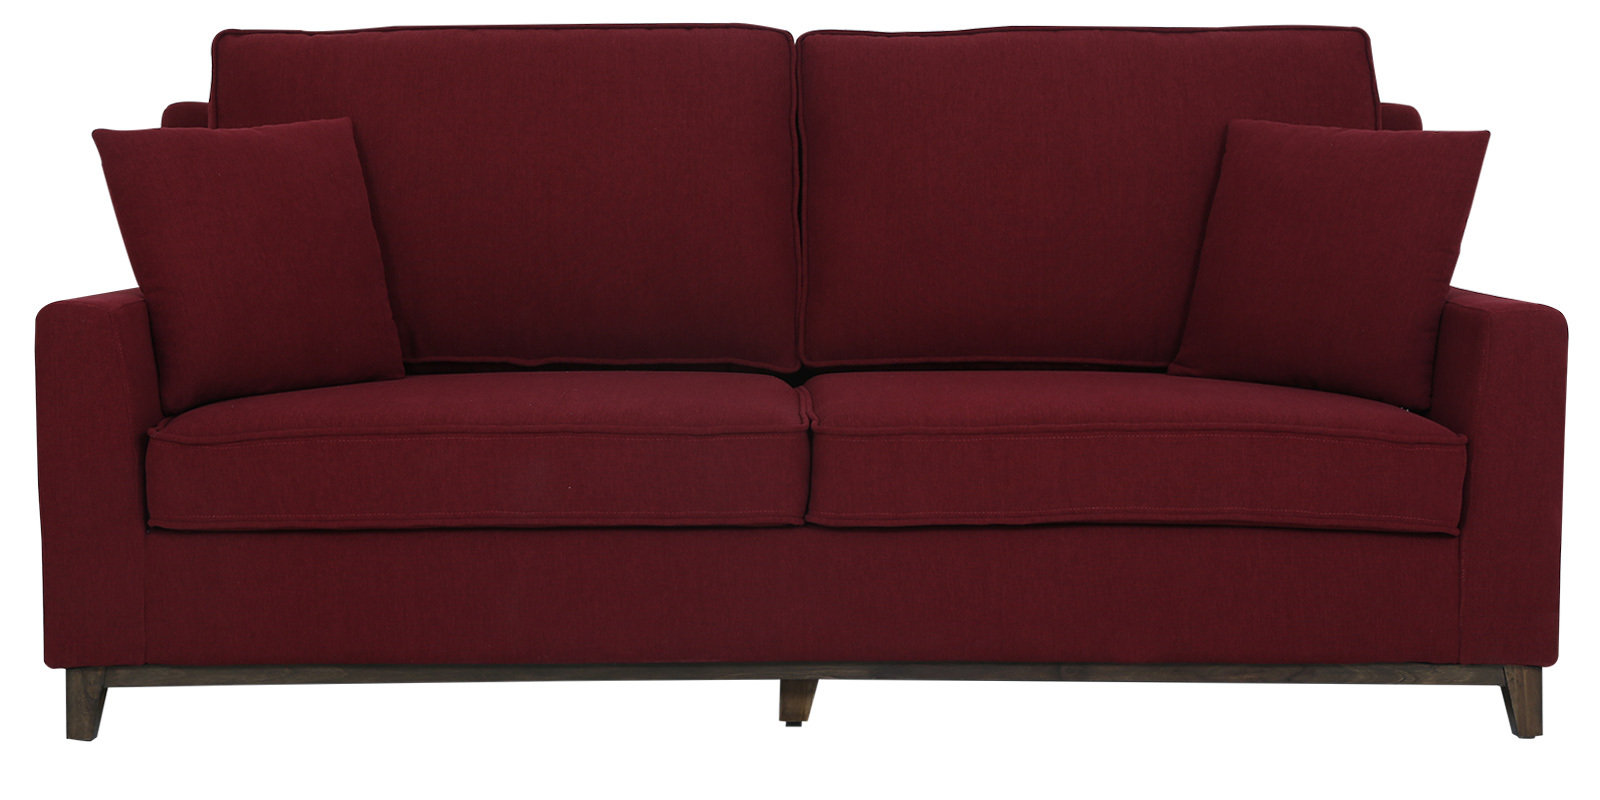Diego Three Seater Sofa in Garnet Red Colour by CasaCraft: (23, 14, 1587, 763)
